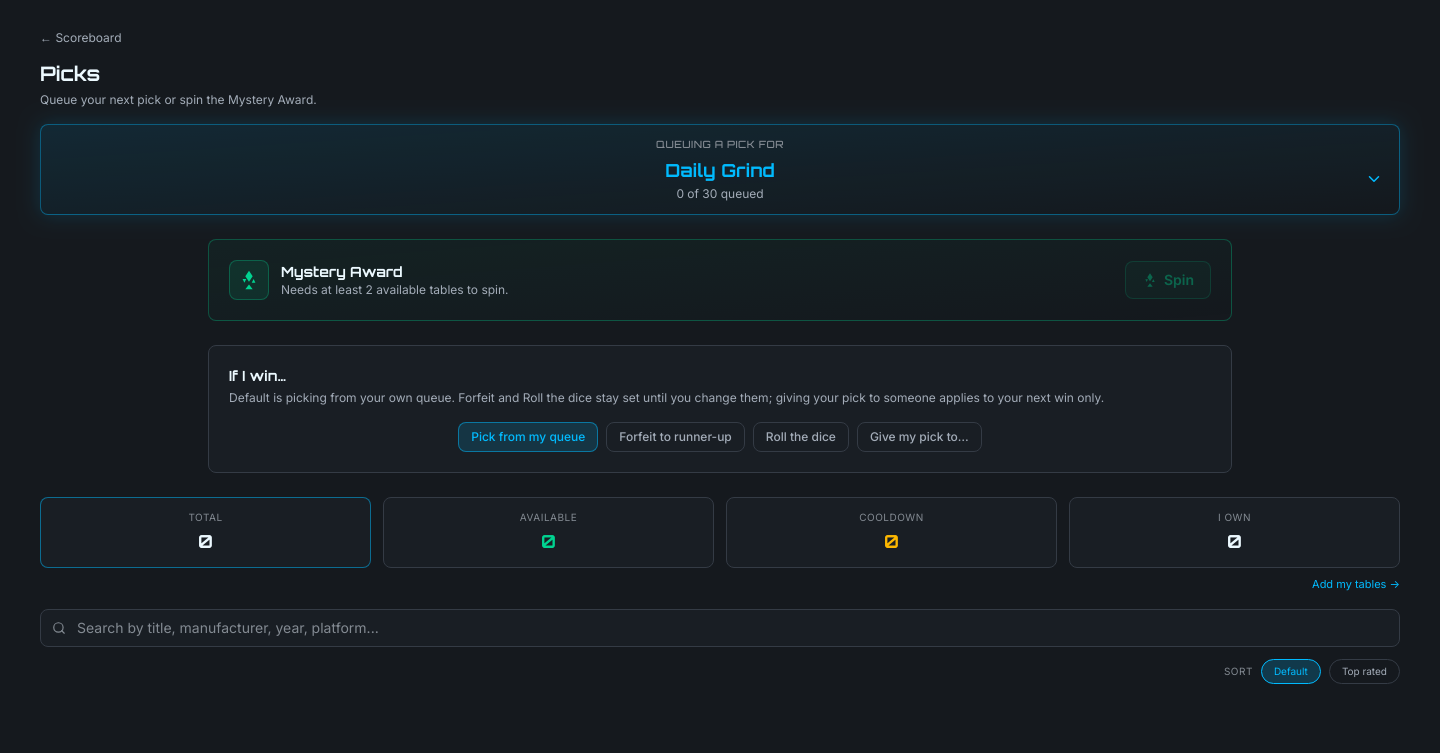
Picks page — next-win disposition control › typeahead: typing 2+ chars renders suggestions after the debounce
Click the button "Give my pick to…" at (919, 437), box [857, 422, 982, 452]
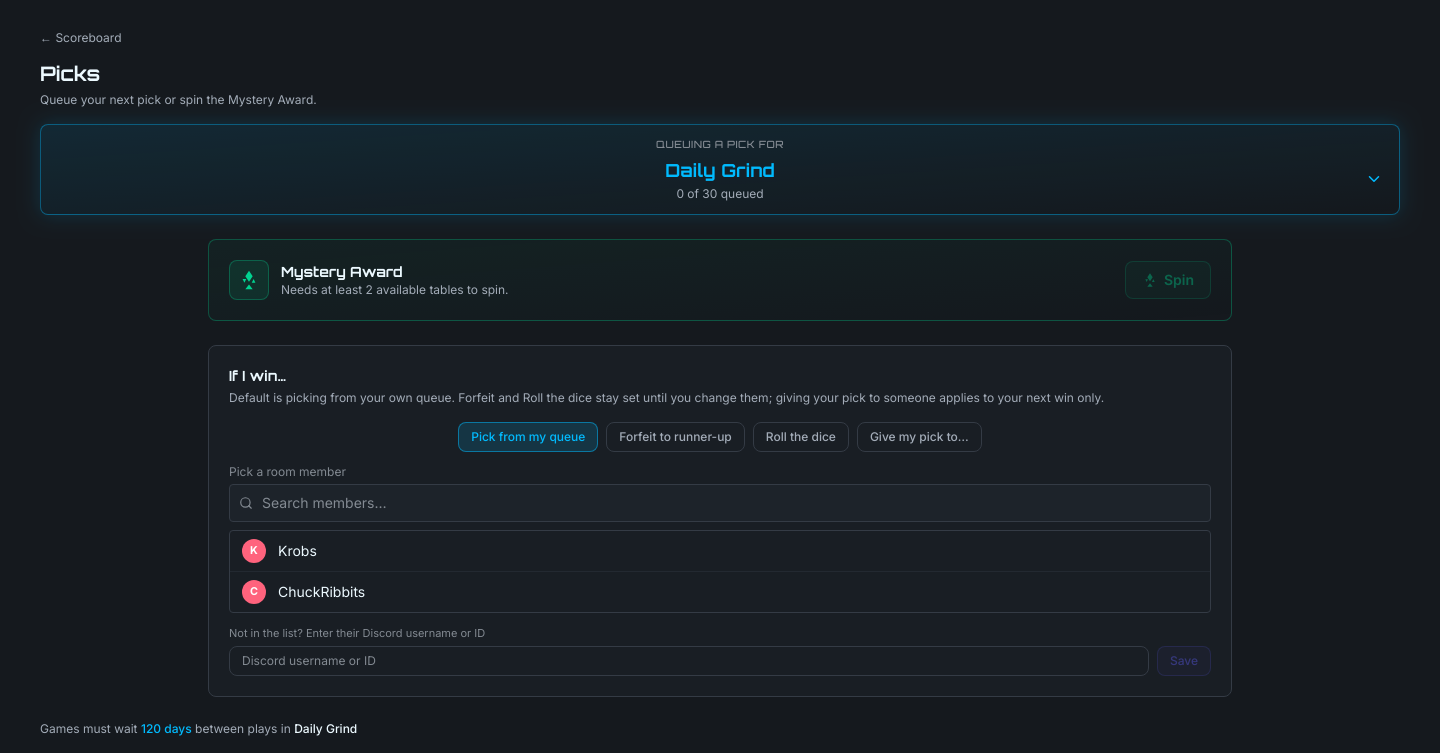
Type "ch" into the field named "Nominee Discord username or ID" at (689, 660), box [229, 646, 1149, 676]
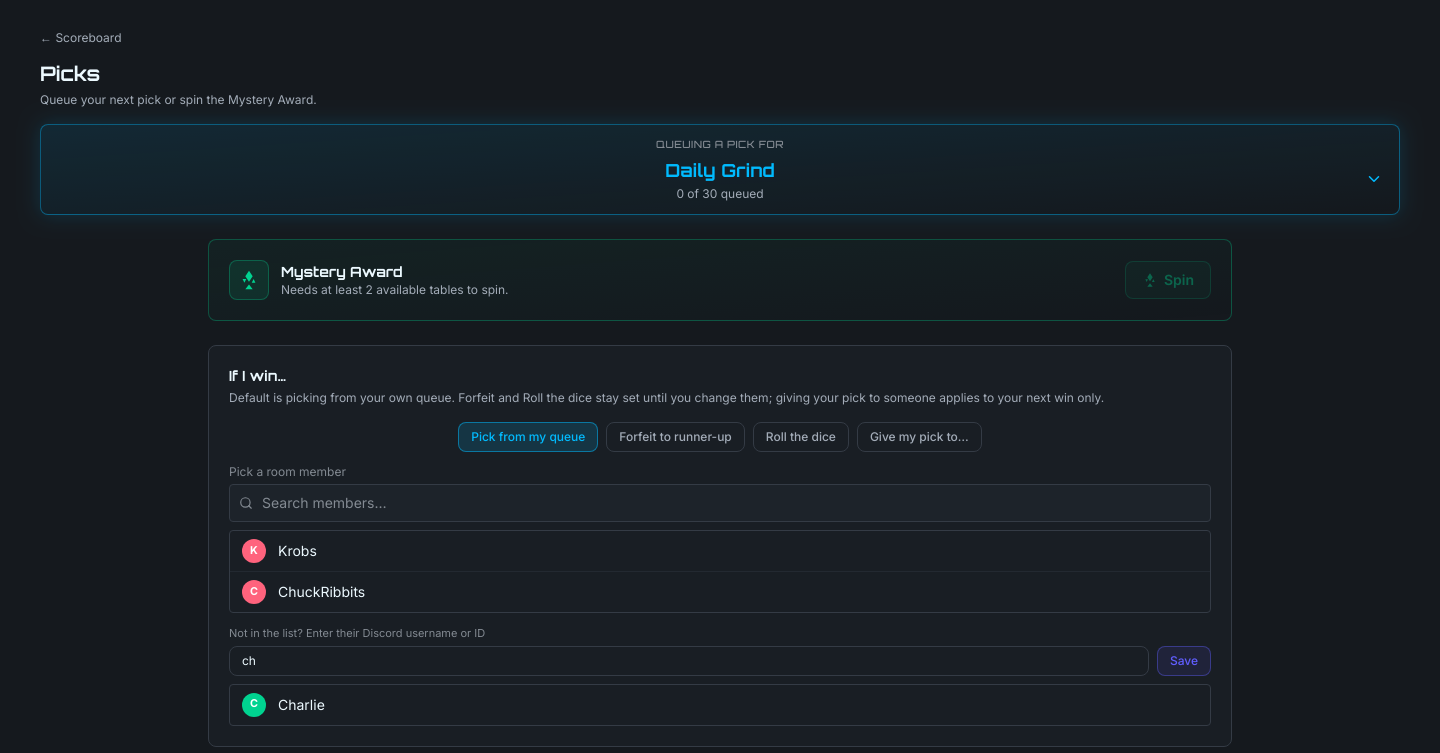
Expected: the text "Charlie" is shown, [278, 696, 325, 712]
